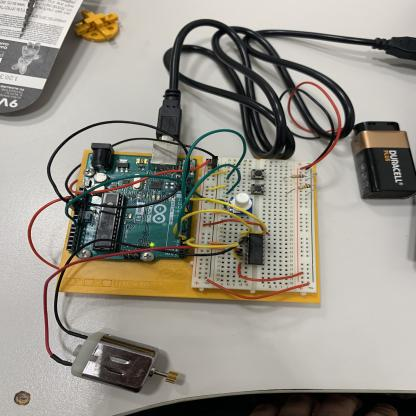5V: (76, 159, 211, 198), (21, 193, 71, 273)
ARDUINO: (67, 153, 200, 266)
Battery: (269, 76, 416, 215)
Breadboard: (192, 156, 320, 294)
Button: (250, 184, 265, 195), (251, 169, 265, 180)
DC Motor: (28, 233, 248, 396)
GND: (40, 117, 184, 211), (62, 135, 196, 214)
H Bridge: (248, 233, 263, 265)
Long wire: (62, 174, 225, 229), (180, 129, 249, 207), (175, 164, 242, 239), (184, 197, 269, 235), (172, 210, 252, 239), (207, 280, 310, 300), (182, 236, 240, 260), (237, 263, 304, 282), (203, 218, 271, 234)
Potentiometer: (233, 193, 250, 209)
Resistor: (297, 184, 312, 189), (290, 174, 306, 178)
Short wire: (209, 184, 227, 190), (210, 170, 229, 175), (207, 200, 222, 205), (210, 242, 228, 245), (209, 248, 224, 251), (213, 212, 219, 214)
